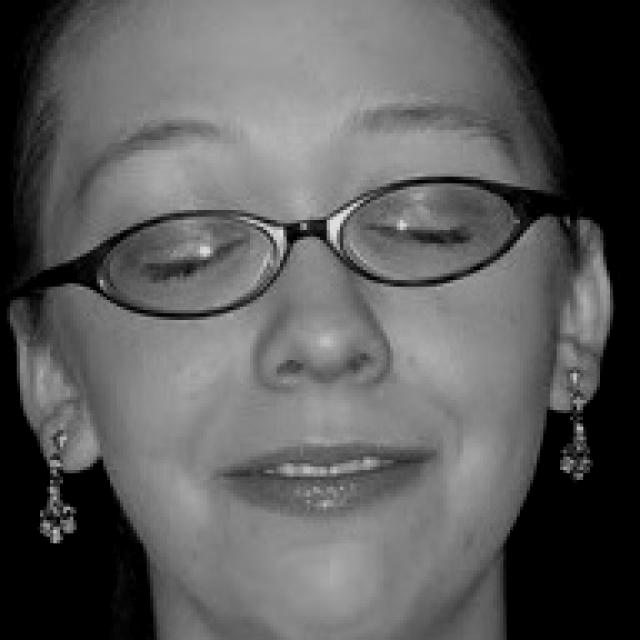real: (36, 0, 551, 640), (124, 202, 497, 302)
